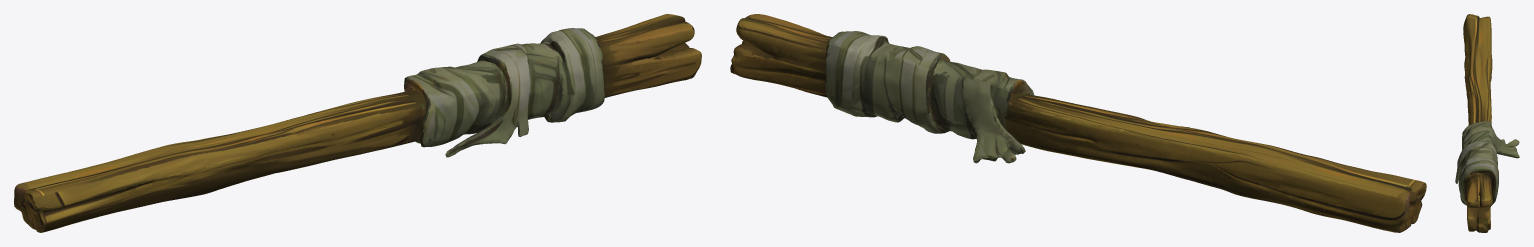
File: tool_torch.glb
3 renders of one model, left to right at view 1: azimuth 30°, elevation 25°; view 2: azimuth 150°, elevation 25°; view 3: azimuth 270°, elevation 25°, orthographic. The views are drawn at different scales.
Parts seen in each view (by area): view 1: tool_torch; view 2: tool_torch; view 3: tool_torch.
Part boxes in pixels (box(x1,y1,x2,y2)): tool_torch: box(14, 14, 701, 232); tool_torch: box(730, 14, 1426, 232); tool_torch: box(1455, 14, 1519, 232).
Bounding box in the file's own units: 0.55 × 0.0591 × 0.0774.
1 material, 1 textured.
